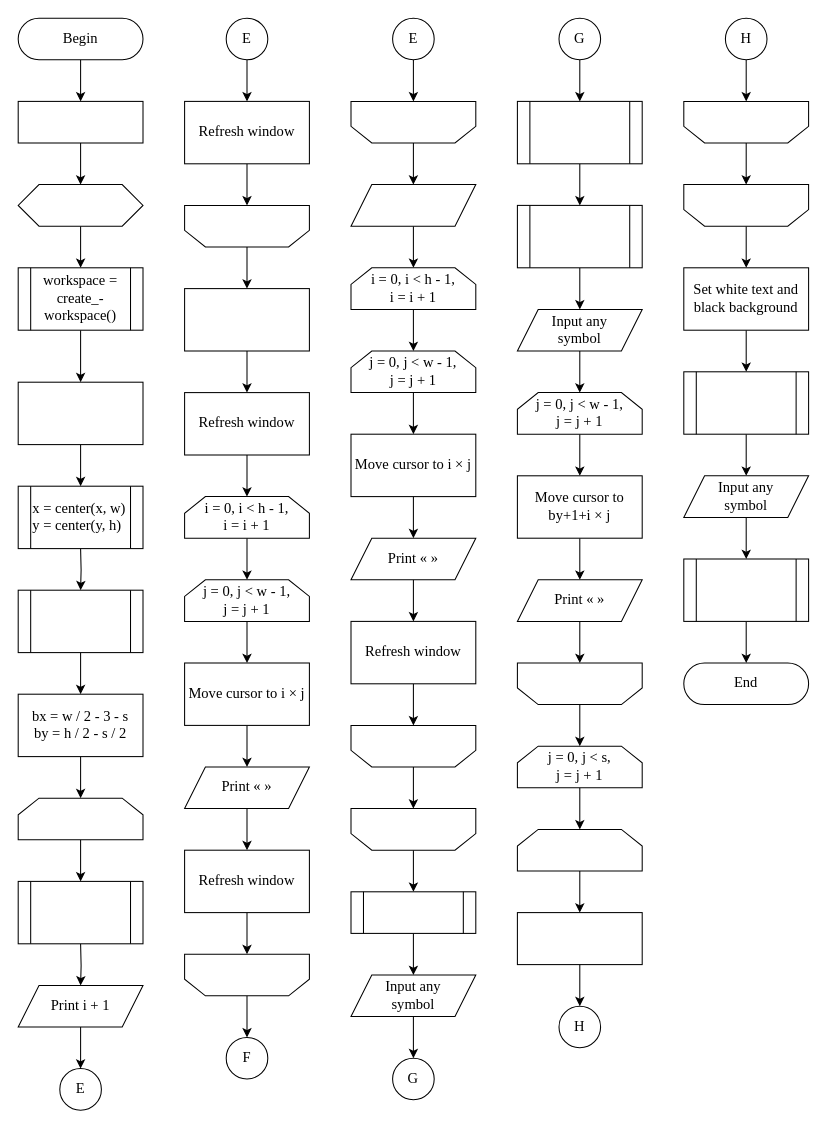
Some shapes in this 827 by 1128 pixel diagram are drawn without their labels. Here are the shapes that lost their labels. From the top down, the box of each, then its label:
(17, 100, 143, 143): s = 5
(516, 100, 642, 164): cx = center( 35, w)
(17, 184, 143, 226): matrix s×s
(350, 184, 476, 226): Input ti, tj
(516, 204, 642, 268): p = i-th row · · j-th column of matrix
(184, 288, 309, 351): Move cursor to by+1 × bx_2
(17, 381, 143, 445): w = 80% of width h = 80% of height
(683, 371, 809, 434): print_matrix (w,h,s,matrix, bx,by)
(683, 558, 809, 621): window_end (workspace, "Done")
(17, 589, 143, 653): window = create_window (w,h,x,y, "Lab")
(17, 797, 143, 840): i = 0, i < s, i = i + 1
(516, 828, 642, 871): i = s-1,i ≠ s -1 - j, i = i - 1
(17, 880, 143, 944): Move cursor to by×center(x,1)+ 2*i-1
(350, 891, 476, 933): i = print_matrix (w,h,s,m,bx,by)
(516, 912, 642, 965): i-th × j-th element of matrix = 0
